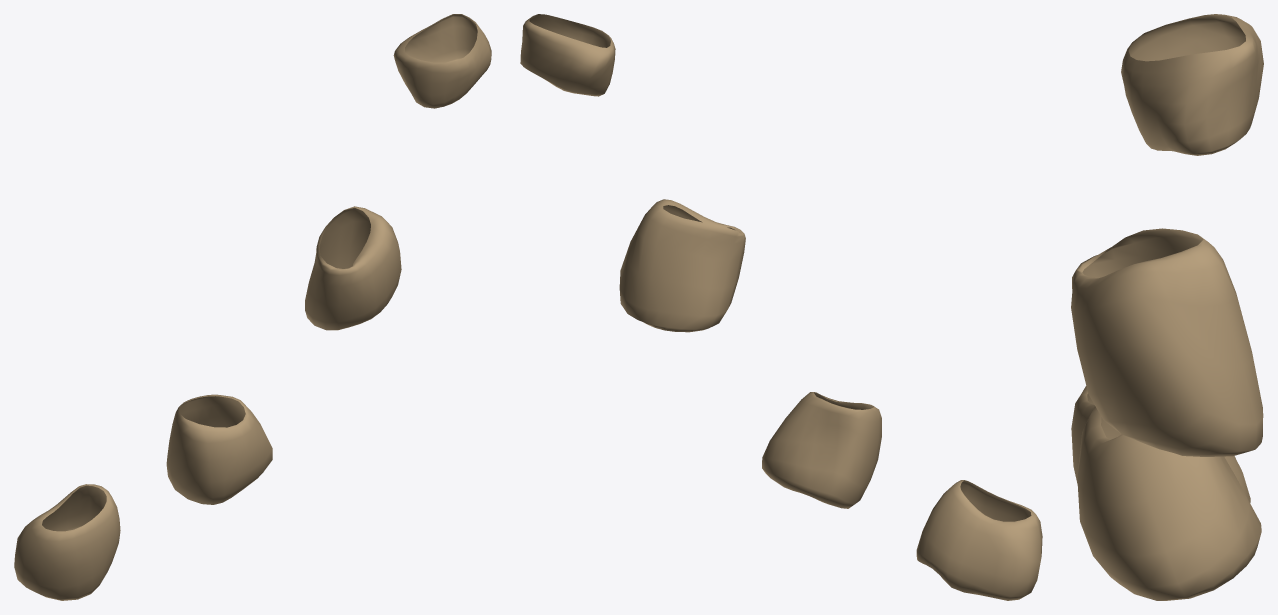
3 renders of one model, left to right at view 1: azimuth 30°, elevation 25°; view 2: azimuth 150°, elevation 25°; view 3: azimuth 270°, elevation 25°, orthographic. The views are drawn at different scales.
Parts seen in each view (by area): view 1: 左侧足远侧趾间关节囊; view 2: 左侧足远侧趾间关节囊; view 3: 左侧足远侧趾间关节囊.
Boxes of the visible parts, box(x1,y1,x2,y2) form: 左侧足远侧趾间关节囊: box(14, 14, 491, 600); 左侧足远侧趾间关节囊: box(520, 14, 1042, 600); 左侧足远侧趾间关节囊: box(1071, 14, 1263, 600).
Size of the model in its own units: 0.0724 by 0.0665 by 0.0128.
